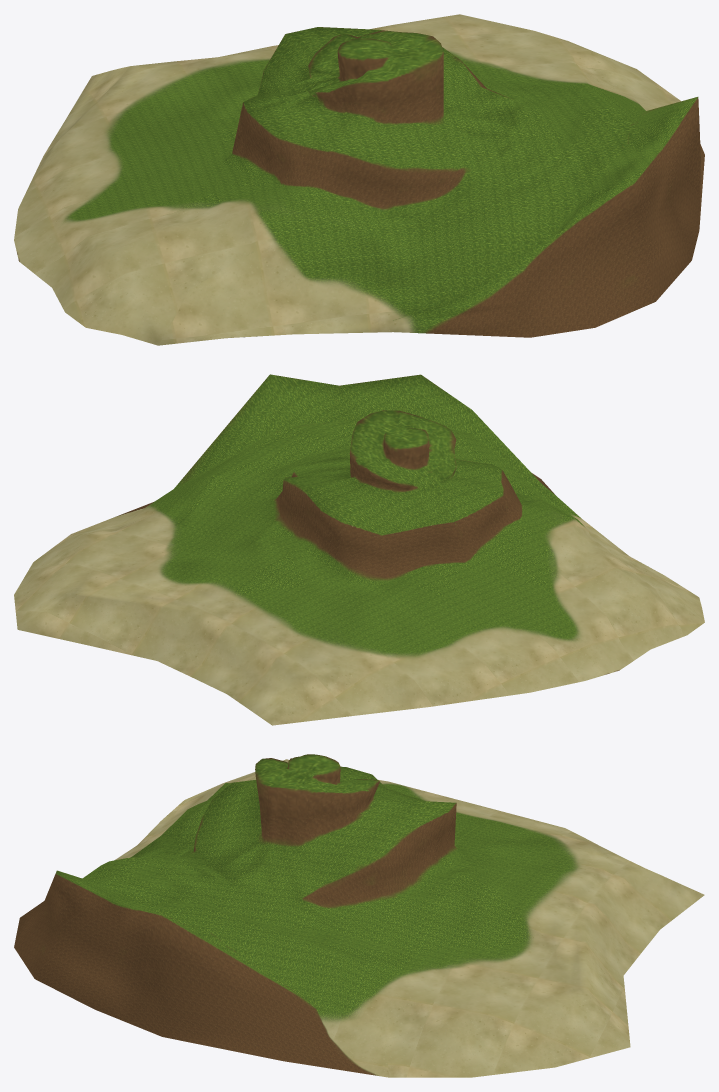
Rendered from Ista_terreno.glb.
3 renders of one model, top to bottom at view 1: azimuth 30°, elevation 25°; view 2: azimuth 150°, elevation 25°; view 3: azimuth 270°, elevation 25°, orthographic. The views are drawn at different scales.
Visible parts, largest first — view 1: Terrain.001; view 2: Terrain.001; view 3: Terrain.001.
Boxes of the visible parts, x1=… form: Terrain.001: x1=14, y1=14, x2=704, y2=345; Terrain.001: x1=14, y1=374, x2=704, y2=725; Terrain.001: x1=14, y1=754, x2=704, y2=1077.
Bounding box in the file's own units: 39.94 × 10.31 × 39.11.
1 material, 1 textured.
